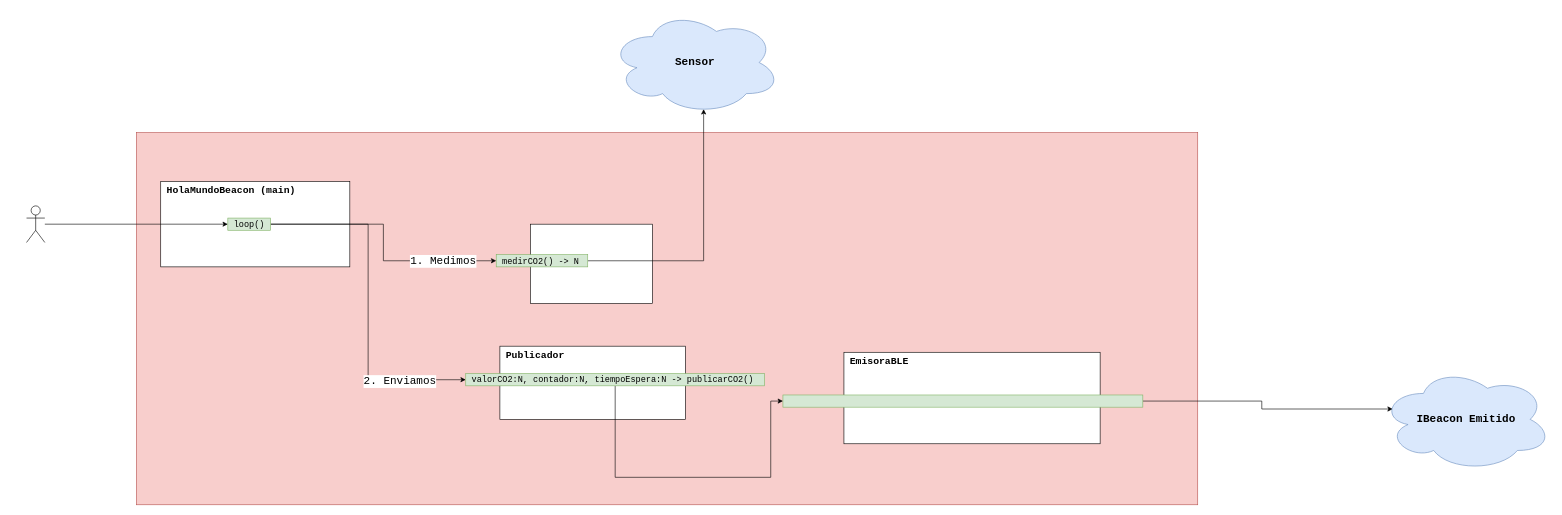
Image size: 1562x515. Some labels were removed from this diagram. The shapes that lost their labels are listed below. From the top down, each one's box as (x1, y1, x2, y2) in pixels, then its label:
(26, 205, 45, 242): reloj de arduino
(530, 224, 652, 303): Medidor
(136, 132, 1198, 505): Aplicación Arduino Medir CO2
(782, 394, 1143, 407): beaconUUID:Texto, major:N, minor:N, rssi:N -> emitirAnuncioIBeacon()
